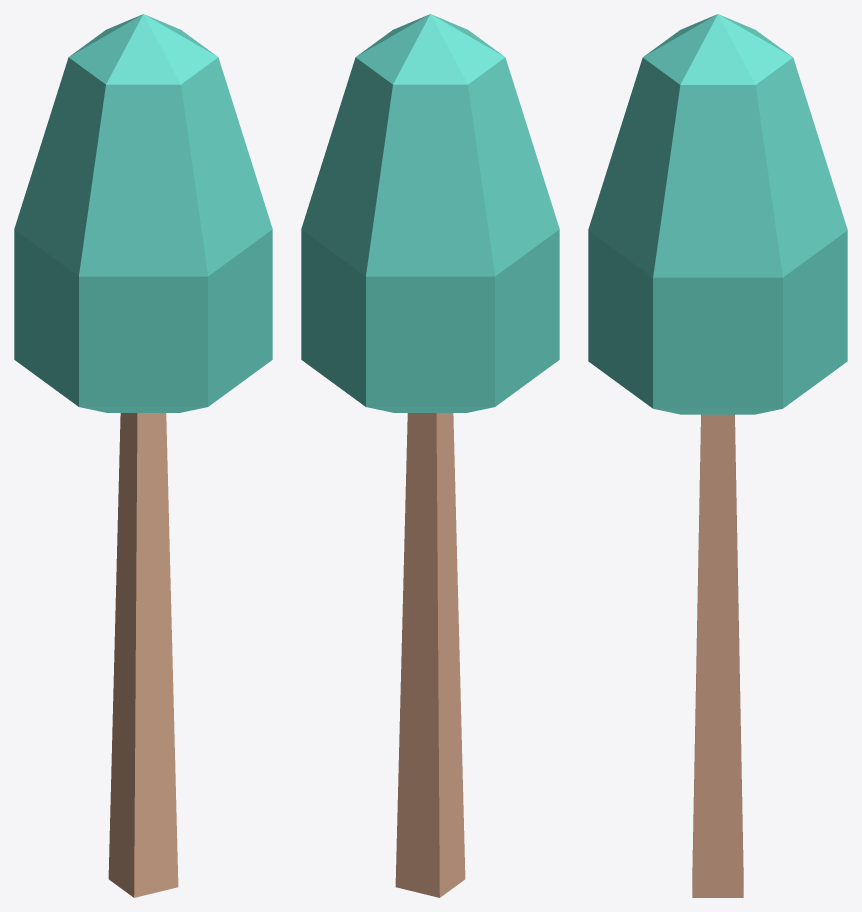
File: tree_simple.glb
3 renders of one model, left to right at view 1: azimuth 30°, elevation 25°; view 2: azimuth 150°, elevation 25°; view 3: azimuth 270°, elevation 25°, orthographic.
Visible parts, largest first — view 1: tree_simple; view 2: tree_simple; view 3: tree_simple.
Boxes of the visible parts, x1,y1,x2,y2 form: tree_simple: [14, 14, 272, 897]; tree_simple: [301, 14, 559, 897]; tree_simple: [588, 14, 847, 897].
Size of the model in its own units: 0.3546 by 1.52 by 0.4095.
